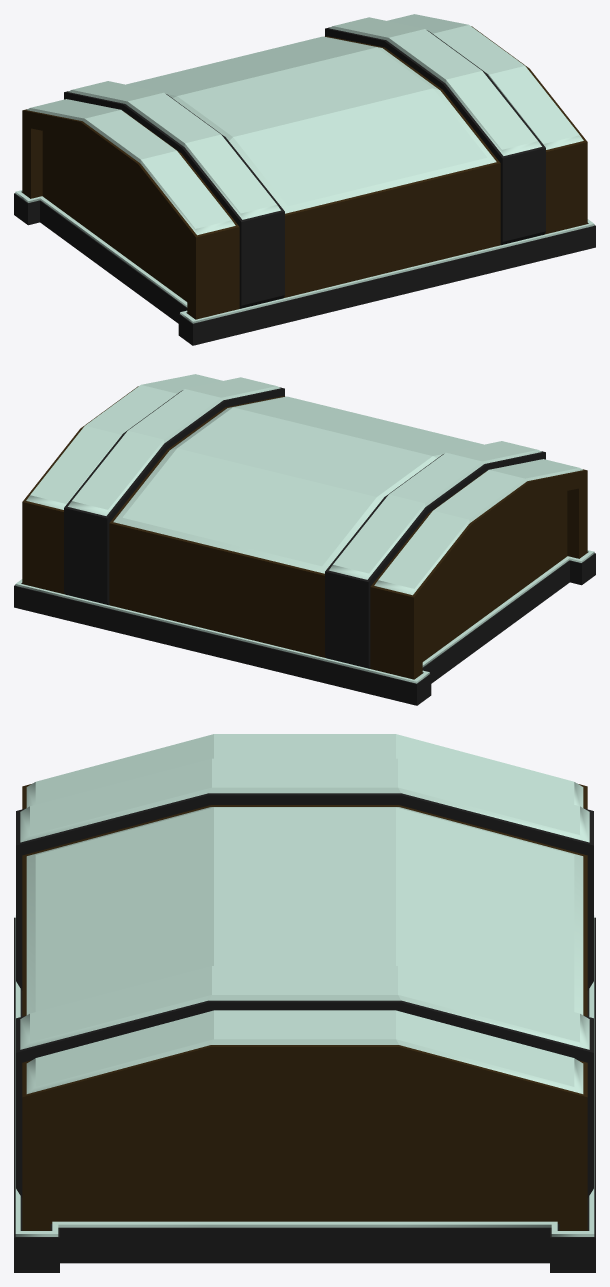
Rendered from winter-chest-top-v3.glb.
3 views of the same model, one above another, from view 1: azimuth 30°, elevation 25°; view 2: azimuth 150°, elevation 25°; view 3: azimuth 270°, elevation 25° (orthographic). The views are drawn at different scales.
Visible parts, largest first — view 1: WinterChestTop_v3; view 2: WinterChestTop_v3; view 3: WinterChestTop_v3.
Boxes of the visible parts, x1,y1,x2,y2 form: WinterChestTop_v3: [14, 14, 595, 345]; WinterChestTop_v3: [14, 374, 595, 705]; WinterChestTop_v3: [14, 734, 595, 1272].
Bounding box in the file's own units: 118 × 40.6 × 90.7.
Materials: 1 (1 with a texture image).
